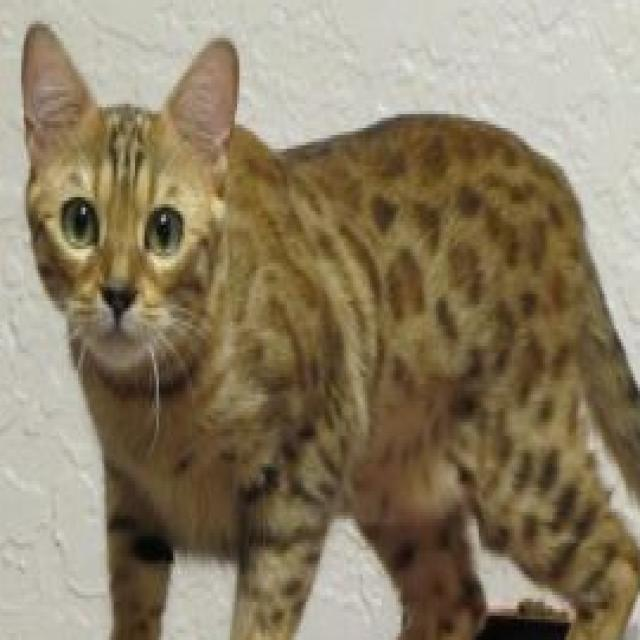Bengal: (14, 10, 640, 640)
